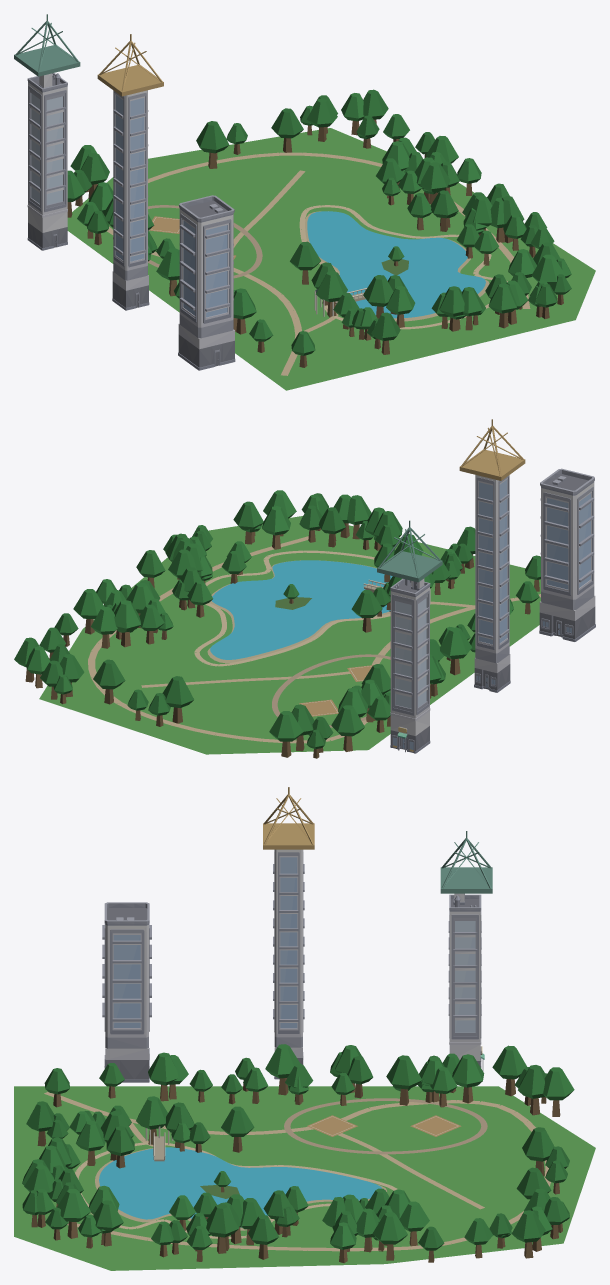
Rendered from piedmont.glb.
3 views of the same model, one above another, from view 1: azimuth 30°, elevation 25°; view 2: azimuth 150°, elevation 25°; view 3: azimuth 270°, elevation 25° (orthographic). The views are drawn at different scales.
Parts seen in each view (by area): view 1: piedmont-landscape, piedmont-lake; view 2: piedmont-landscape, piedmont-lake; view 3: piedmont-landscape, piedmont-lake.
Boxes of the visible parts, x1,y1,x2,y2 form: piedmont-landscape: [14, 14, 595, 390]; piedmont-lake: [307, 211, 485, 318]; piedmont-landscape: [14, 419, 595, 758]; piedmont-lake: [210, 560, 392, 659]; piedmont-landscape: [14, 787, 595, 1270]; piedmont-lake: [99, 1147, 381, 1227].
Bounding box in the file's own units: 30.6 × 19.5 × 36.
